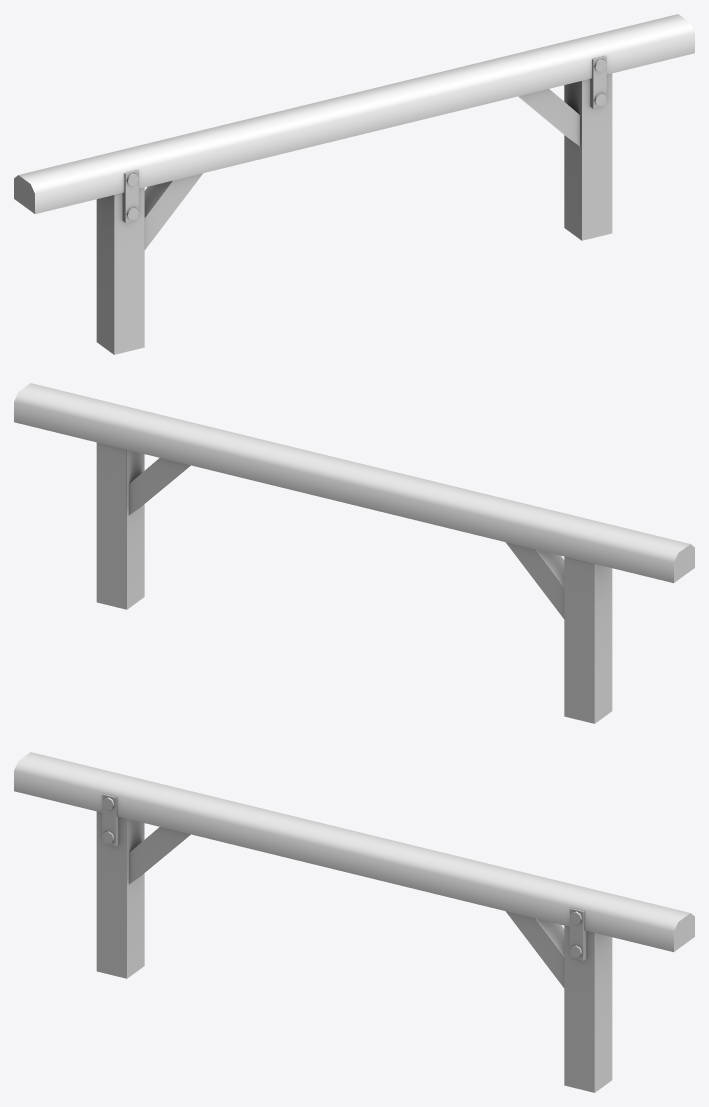
File: hitching_post.fbx
3 views of the same model, one above another, from view 1: azimuth 30°, elevation 25°; view 2: azimuth 150°, elevation 25°; view 3: azimuth 330°, elevation 25° (orthographic).
Parts seen in each view (by area): view 1: hitching_post; view 2: hitching_post; view 3: hitching_post.
Part boxes in pixels (bbox=[...]): hitching_post: bbox=[14, 14, 694, 354]; hitching_post: bbox=[14, 383, 694, 723]; hitching_post: bbox=[14, 752, 694, 1092].
Size of the model in its own units: 1281 by 350 by 78.49.
